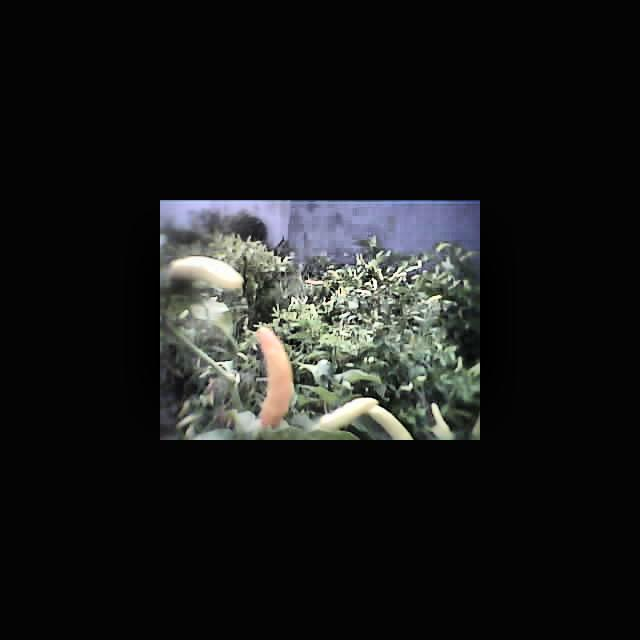Cabai: (252, 329, 296, 430)
